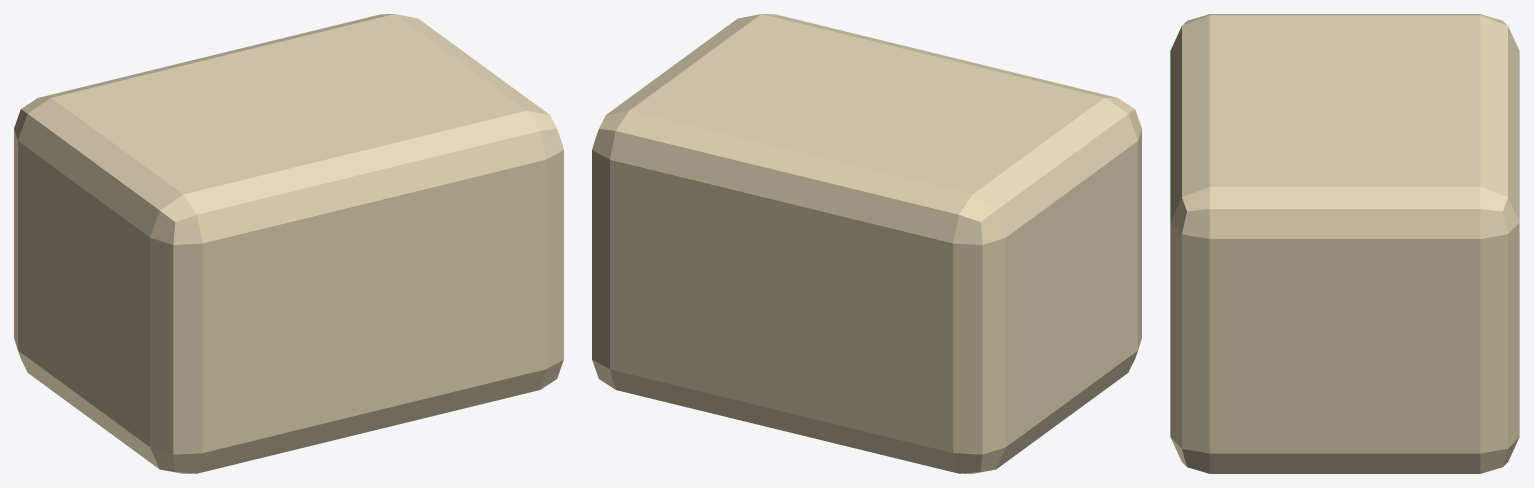
Rendered from kit_stone_block.glb.
The picture shows the model from 3 angles, left to right: view 1: azimuth 30°, elevation 25°; view 2: azimuth 150°, elevation 25°; view 3: azimuth 270°, elevation 25°; orthographic projection. The views are drawn at different scales.
Parts seen in each view (by area): view 1: Dressed limestone; view 2: Dressed limestone; view 3: Dressed limestone.
Boxes of the visible parts, left/top/right/bottom form: Dressed limestone: left=14, top=14, right=563, bottom=473; Dressed limestone: left=592, top=14, right=1141, bottom=473; Dressed limestone: left=1170, top=14, right=1519, bottom=473.
Size of the model in its own units: 0.43 by 0.28 by 0.31.
